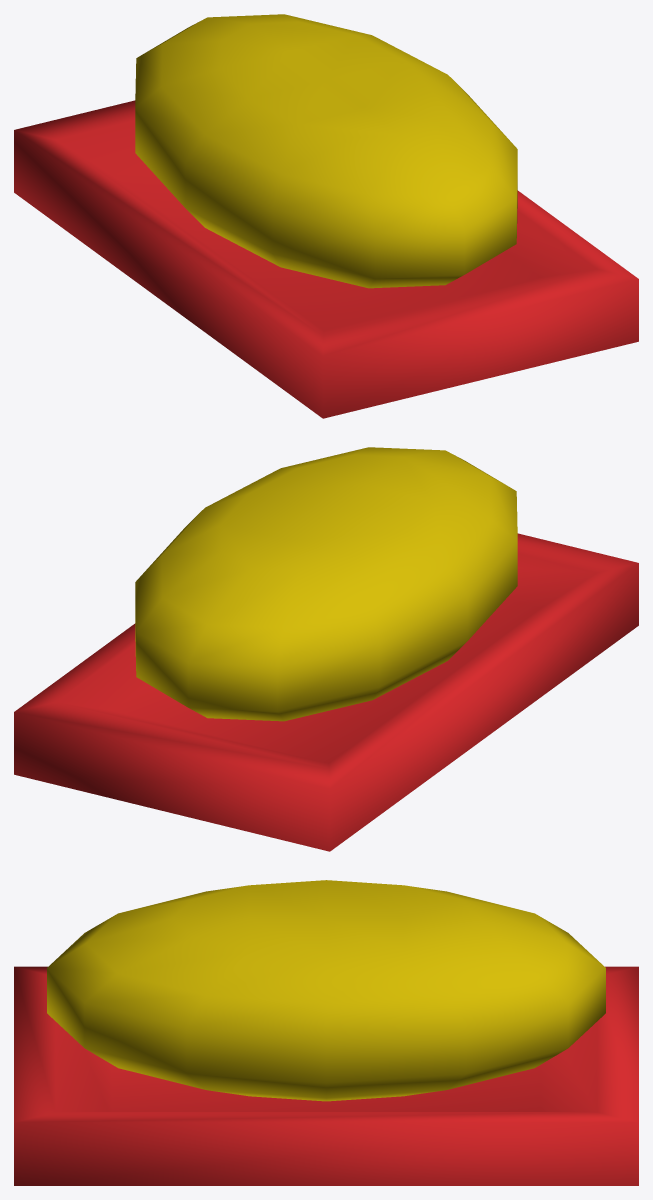
Rendered from MOD_PRO_Hand_soap_01.fbx.
3 views of the same model, one above another, from view 1: azimuth 30°, elevation 25°; view 2: azimuth 150°, elevation 25°; view 3: azimuth 270°, elevation 25° (orthographic).
Parts seen in each view (by area): view 1: HSHP_MOD_Hand_soap; view 2: HSHP_MOD_Hand_soap; view 3: HSHP_MOD_Hand_soap.
Boxes of the visible parts, <box> form: HSHP_MOD_Hand_soap: <box>14,14,638,418</box>; HSHP_MOD_Hand_soap: <box>14,447,638,851</box>; HSHP_MOD_Hand_soap: <box>14,880,638,1185</box>.
Size of the model in its own units: 0.0766 by 0.0434 by 0.1298.
